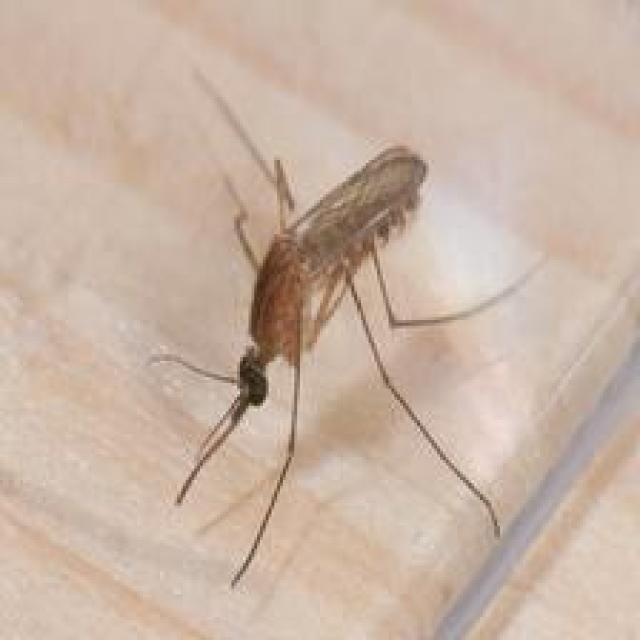Culex: (147, 66, 547, 588)
